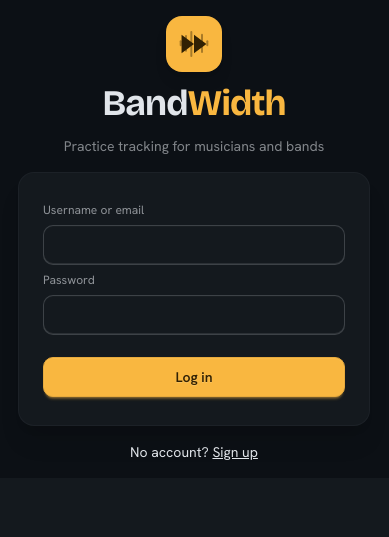
it: LoginPage › shows an error for bad credentials
Type "alice" into the field labelled "Username or email". click: {"x": 194, "y": 245}
box: [43, 225, 345, 265]
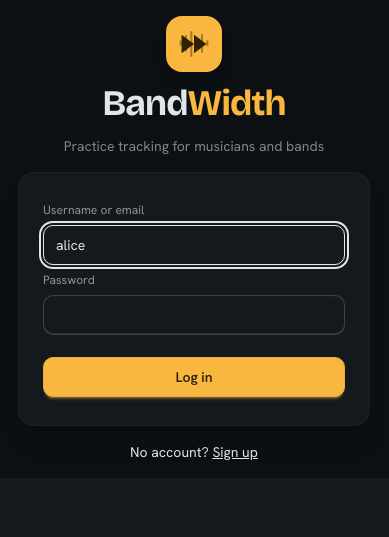
Type "wrong" into the password field labelled "Password". click: {"x": 194, "y": 315}
box: [43, 295, 345, 335]
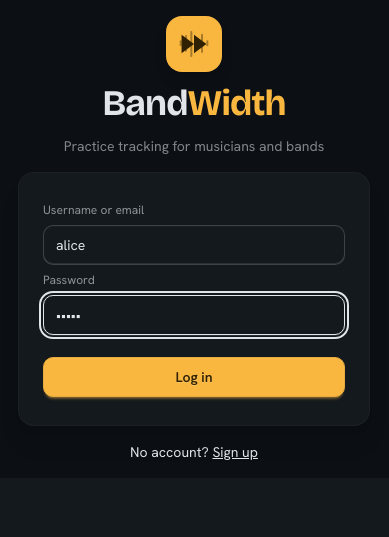
Click the button "Log in". click: {"x": 194, "y": 377}
box: [43, 357, 345, 397]
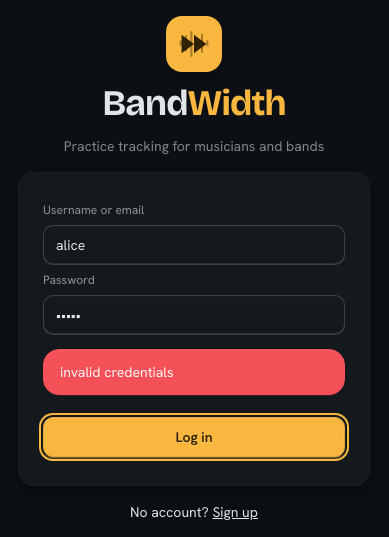
Expected: the message reads "invalid credentials", [60, 363, 174, 381]
